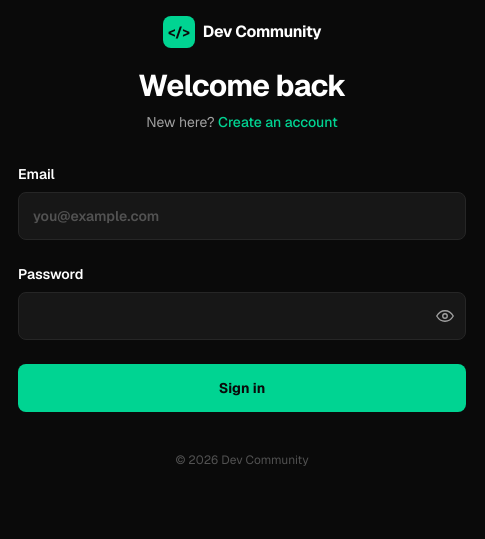
Scenario: LoginForm › shows a field error for each empty field and does not submit
What coordinates should you click on to do the following:
click the button "Sign in"
I would click on:
 (242, 388)
Its box is [18, 364, 466, 412].
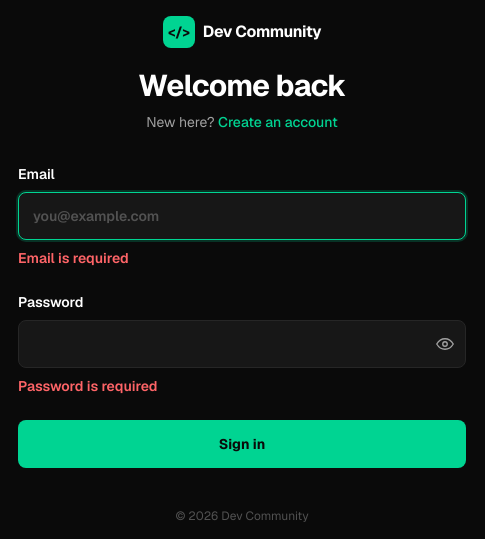
expect the text "Email is required" is shown: met, box [18, 249, 129, 267]
expect the text "Password is required" is shown: met, box [18, 377, 158, 395]
